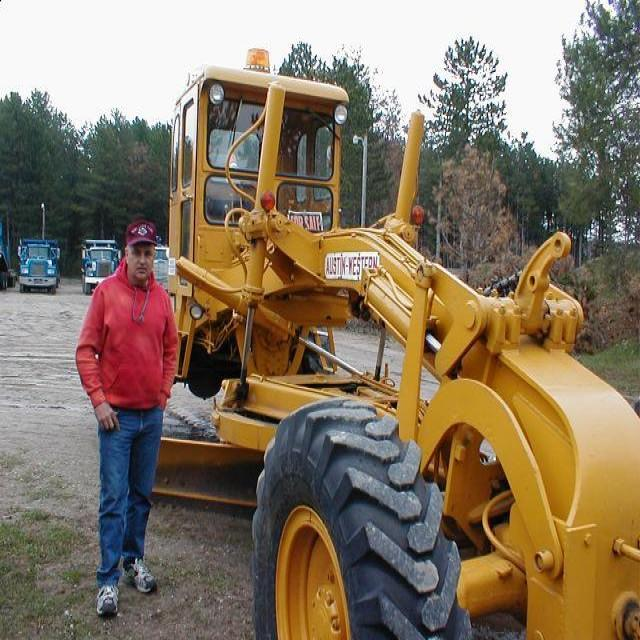buldozerpayloadergrader: (86, 36, 639, 639)
